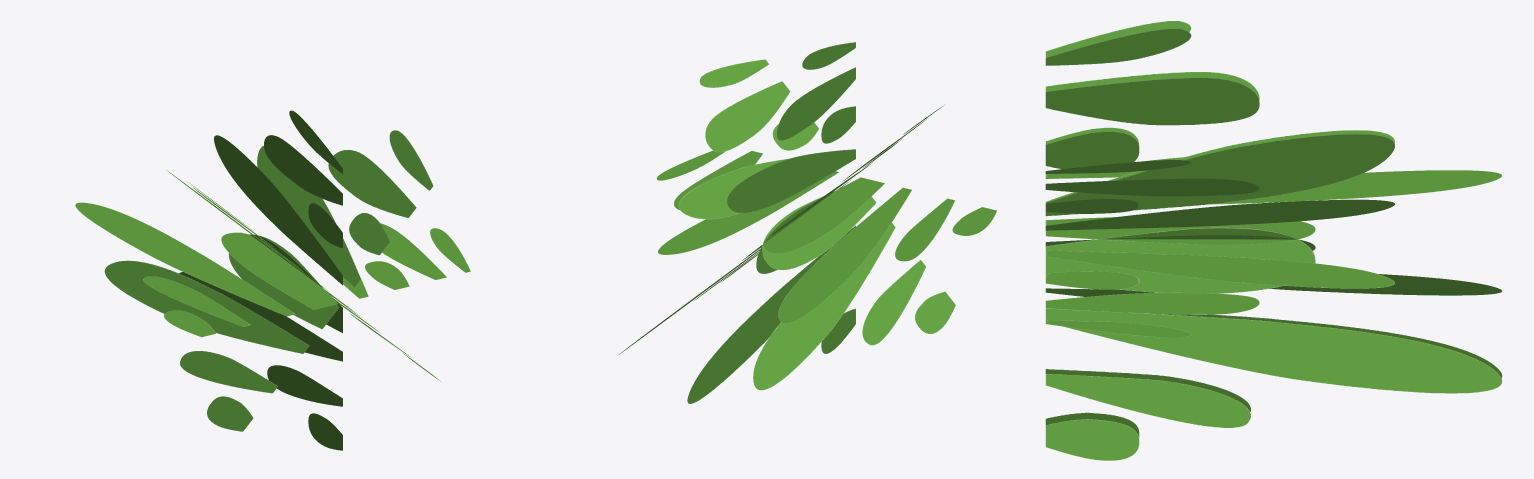
File: GrassProOne.fbx
3 renders of one model, left to right at view 1: azimuth 30°, elevation 25°; view 2: azimuth 150°, elevation 25°; view 3: azimuth 270°, elevation 25°, orthographic. The views are drawn at different scales.
Visible parts, largest first — view 1: Plane; view 2: Plane; view 3: Plane.
Boxes of the visible parts, x1,y1,x2,y2 form: Plane: [75, 110, 470, 450]; Plane: [619, 42, 996, 403]; Plane: [1045, 21, 1502, 460].
Bounding box in the file's own units: 200 × 200 × 200.
